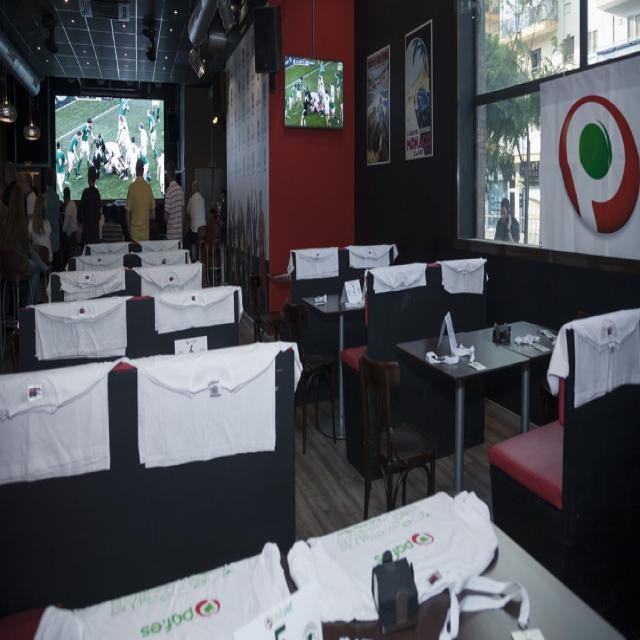chair: (360, 354, 437, 519), (282, 302, 337, 449)
desk: (347, 290, 583, 490)
person: (0, 161, 31, 328), (28, 193, 52, 300), (125, 158, 155, 242), (78, 165, 103, 248), (185, 179, 207, 260), (163, 161, 185, 242), (60, 184, 78, 271), (493, 196, 520, 242)
tv: (51, 89, 168, 213), (282, 54, 345, 134)
